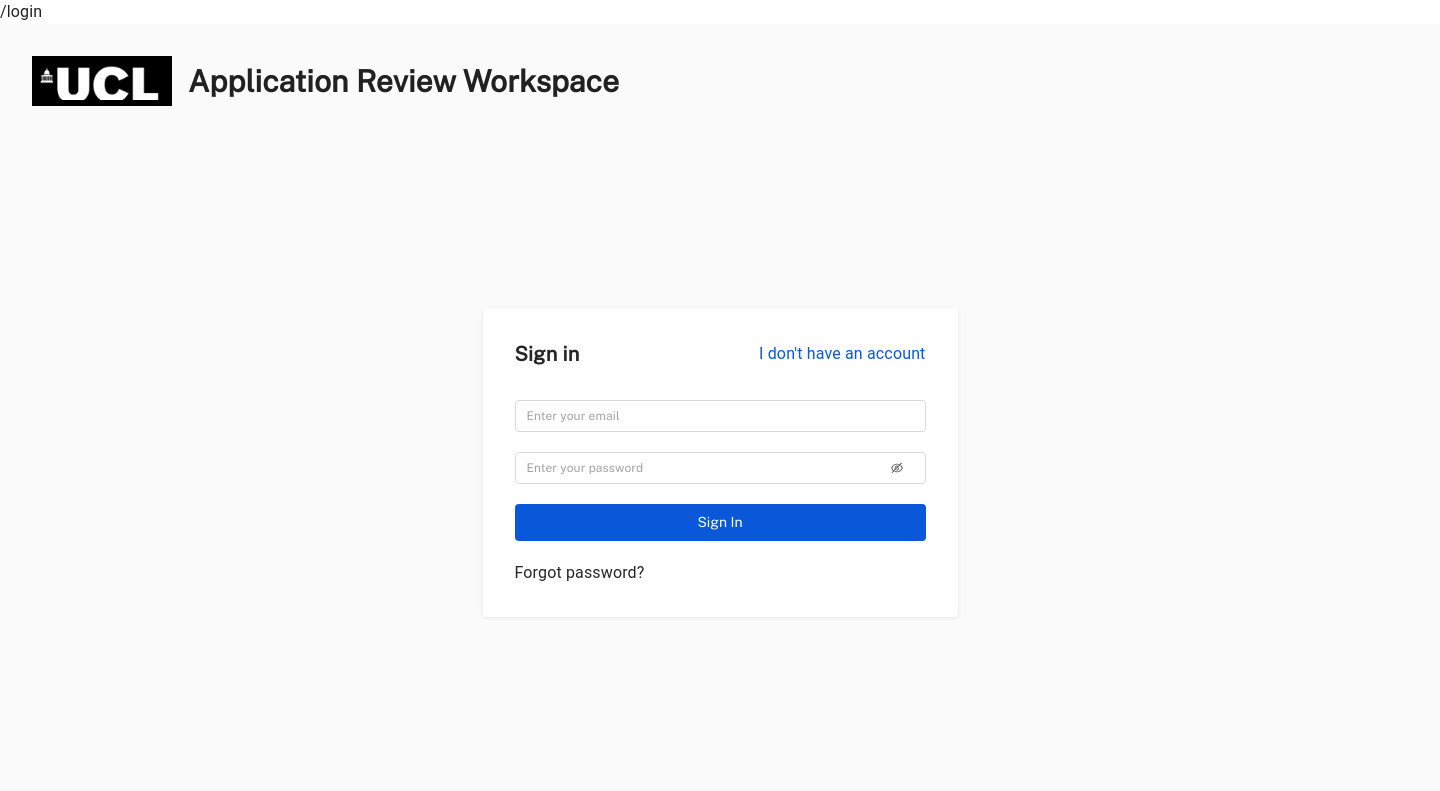
Mantis sign-in › uses the shared Mantis dialog for help and restores keyboard focus on close
Click the button "Forgot password?" at (580, 573), box [514,561,644,585]
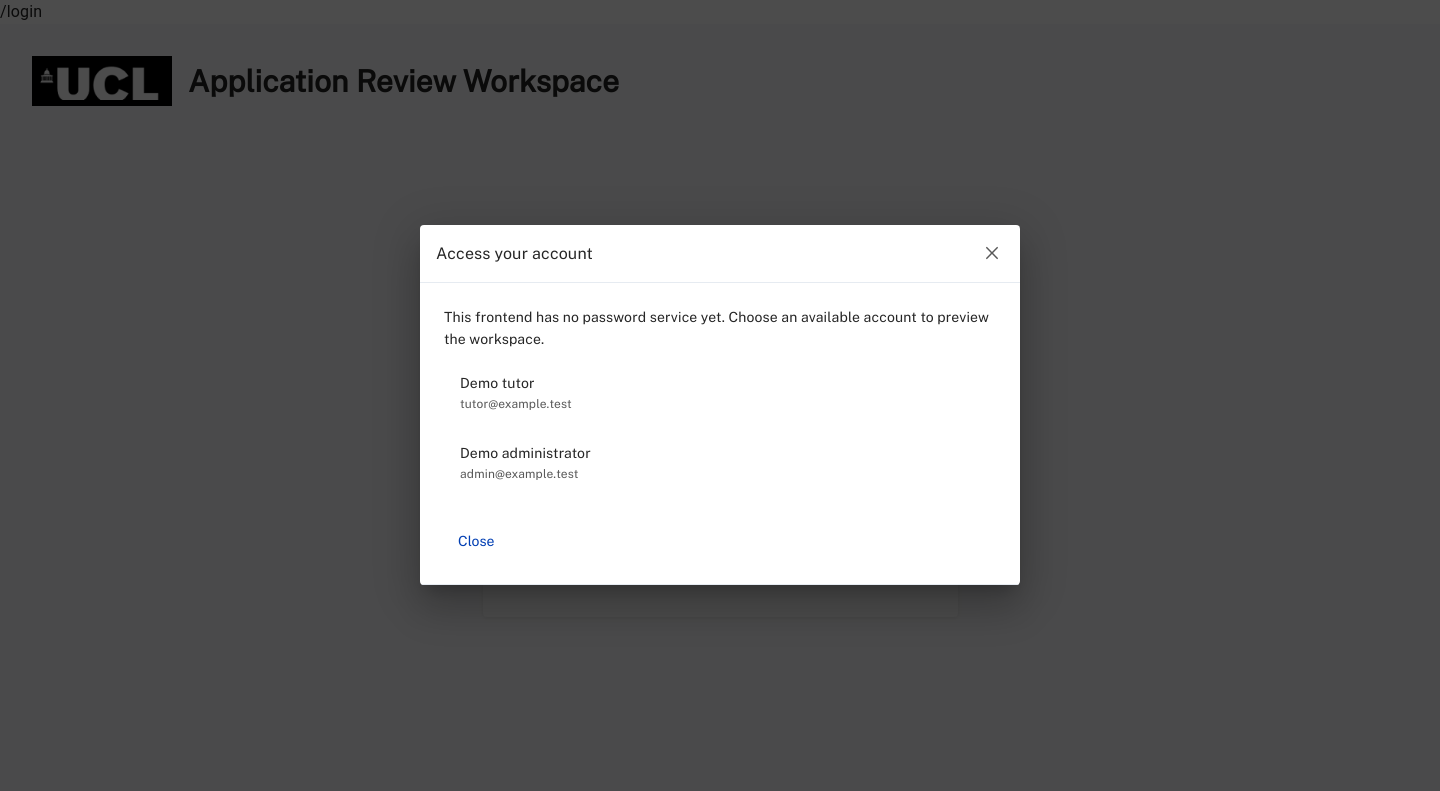
Expected: the dialog "Access your account" is shown, [420,225,1020,585]
Click the button named "Close help" at (992, 253), box [974,235,1010,271]
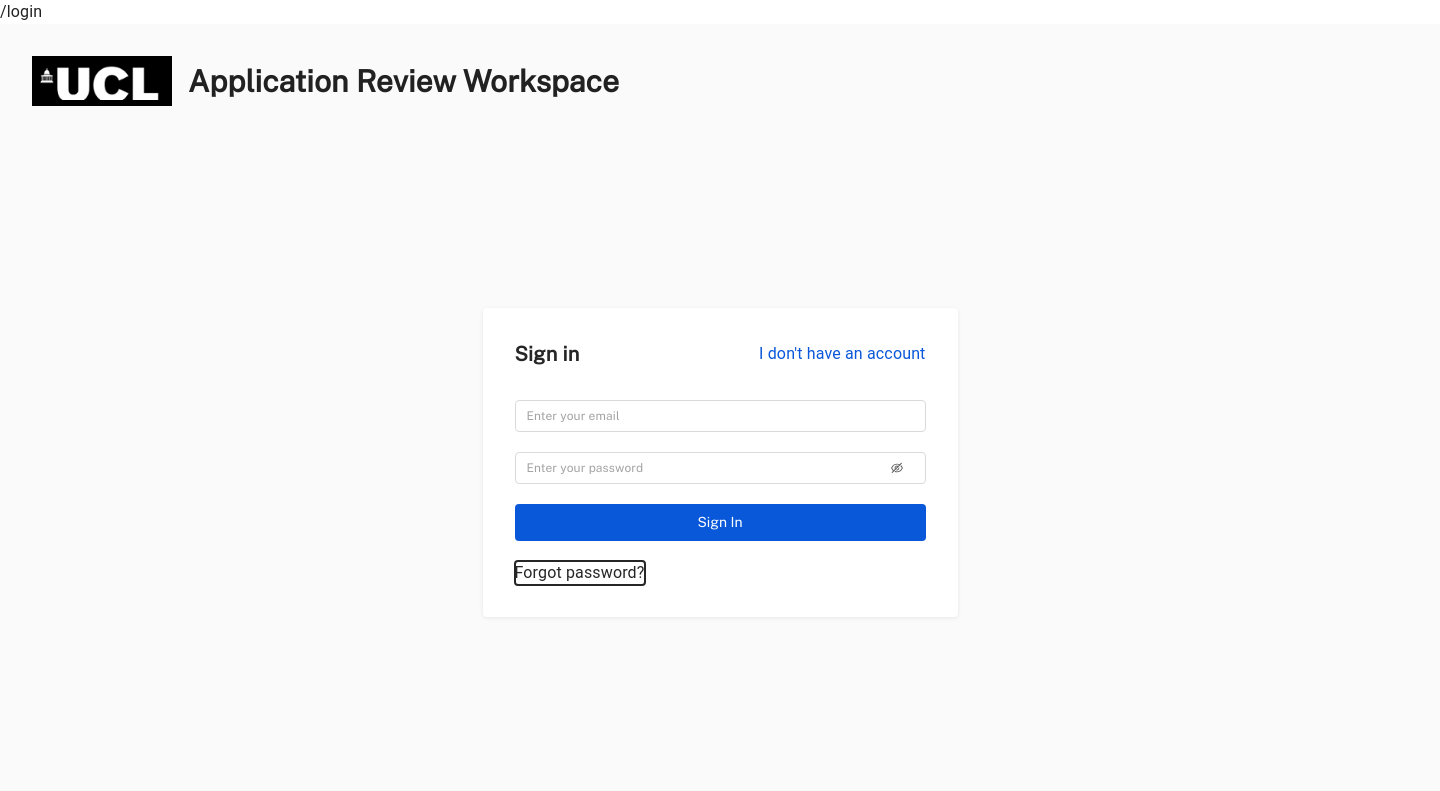
Expected: the dialog is gone
